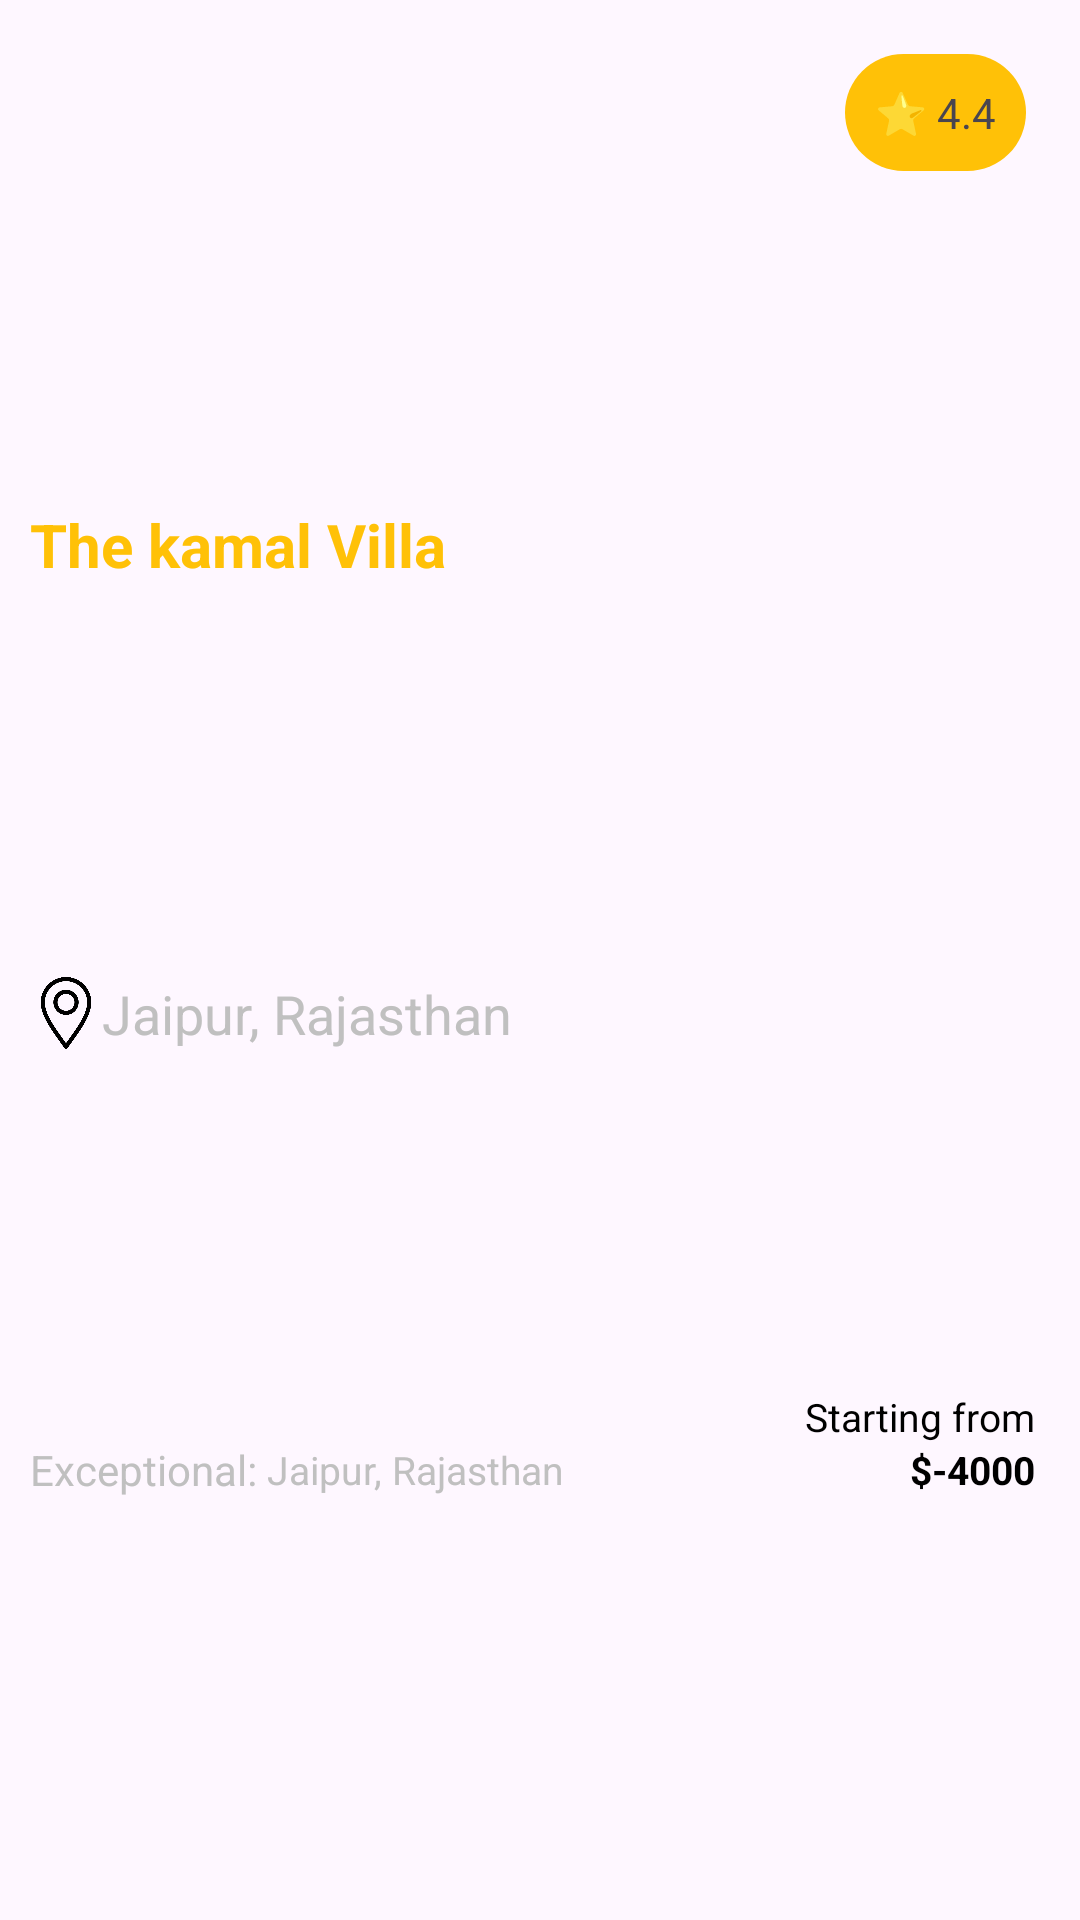

Icons on this 1080px×1920px Android screen, each with its box as [left=x1, top=y1, right=x2, bottom=y2]:
location: [left=41, top=977, right=91, bottom=1049]
